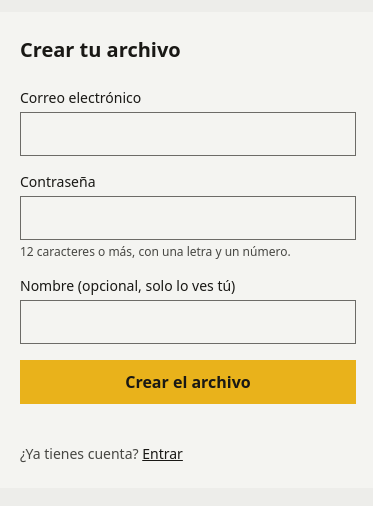
RegisterPage (AC-22) › muestra el 409 del servidor en un role="alert" que recibe el foco
The width and height of the screenshot is (373, 506).
In the field labelled "Correo electrónico": (188, 134) x1=20 y1=112 x2=356 y2=156, type "nueva@example.test"
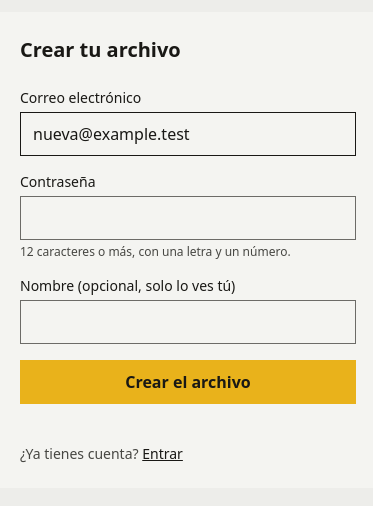
In the password field labelled "Contraseña": (188, 218) x1=20 y1=196 x2=356 y2=240, type "contrasena-1234"
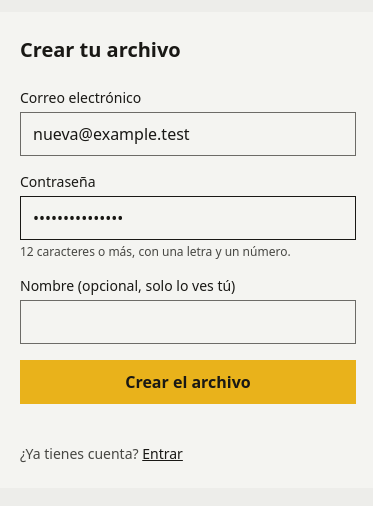
Click the button "Crear el archivo": (188, 382) x1=20 y1=360 x2=356 y2=404
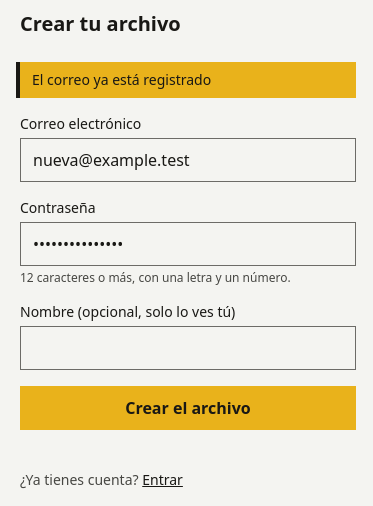
Check: the message reads "El correo ya está registrado", box x1=32 y1=70 x2=211 y2=89
